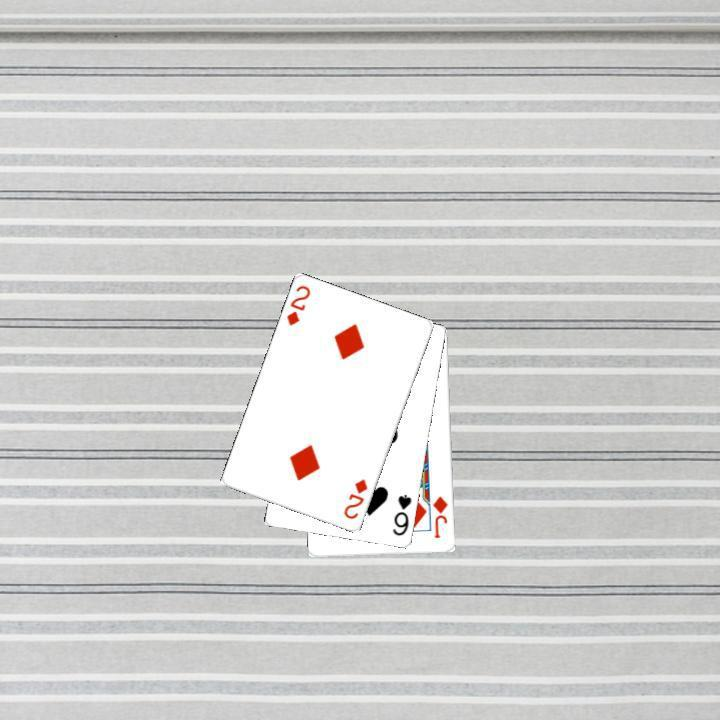2: (339, 475, 370, 522), (282, 281, 313, 328)
6: (388, 490, 414, 538)
J: (429, 492, 450, 540)
